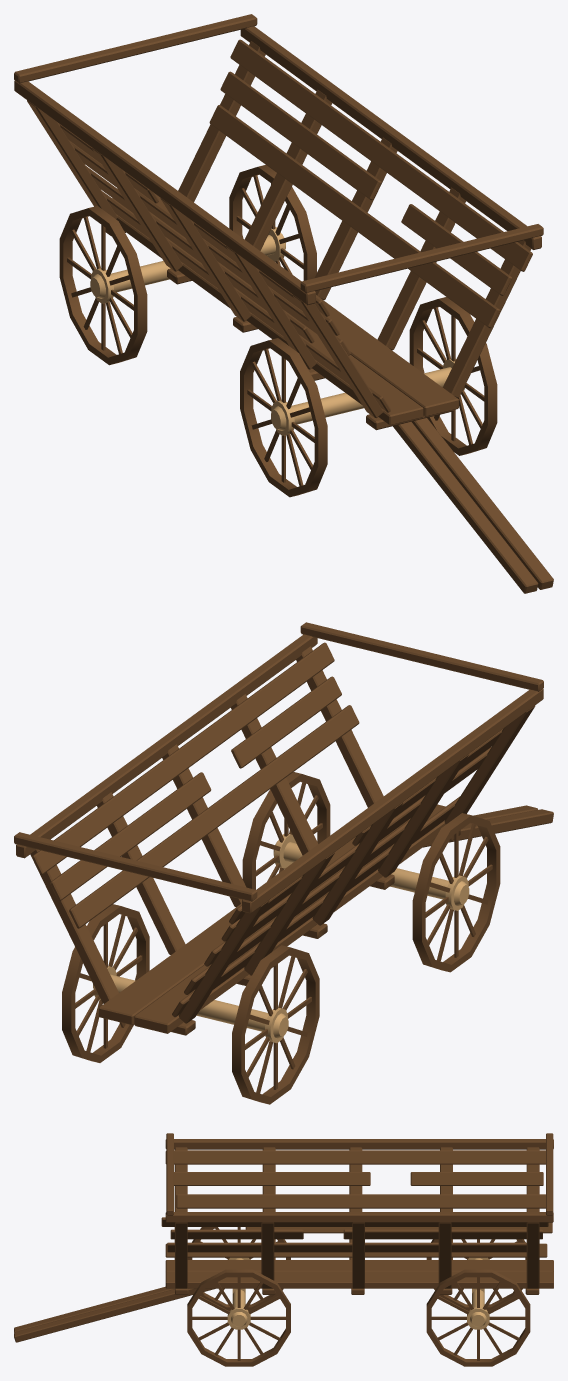
Rendered from car_08.gltf.
3 renders of one model, top to bottom at view 1: azimuth 30°, elevation 25°; view 2: azimuth 150°, elevation 25°; view 3: azimuth 270°, elevation 25°, orthographic. The views are drawn at different scales.
Parts seen in each view (by area): view 1: body, wheel_14, wheel_6, wheel_15, wheel_7, wheel_9, wheel_11, wheel_12, wheel_4, wheel_3, wheel_1, wheel_8; view 2: body, wheel_14, wheel_6, wheel_7, wheel_15, wheel_1, wheel_3, wheel_4, wheel_12, wheel_11, wheel_9, wheel_0; view 3: body, wheel_2, wheel_10, wheel_3, wheel_11, wheel_8, wheel_0, wheel_5.
Boxes of the visible parts, x1,y1,x2,y2 form: body: (14, 14, 553, 593); wheel_14: (59, 208, 137, 365); wheel_6: (240, 340, 318, 497); wheel_15: (88, 206, 147, 364); wheel_7: (269, 338, 327, 496); wheel_9: (409, 299, 487, 455); wheel_11: (439, 297, 497, 455); wheel_12: (63, 216, 116, 357); wheel_4: (244, 348, 296, 489); wheel_3: (258, 165, 316, 279); wheel_1: (229, 167, 307, 280); wheel_8: (413, 306, 466, 448); body: (14, 622, 553, 1093); wheel_14: (241, 947, 319, 1104); wheel_6: (422, 815, 500, 972); wheel_7: (412, 813, 471, 971); wheel_15: (232, 945, 290, 1103); wheel_1: (71, 906, 149, 1062); wheel_3: (62, 904, 120, 1062); wheel_4: (443, 823, 496, 964); wheel_12: (262, 955, 315, 1096); wheel_11: (242, 772, 301, 888); wheel_9: (252, 774, 330, 889); wheel_0: (93, 913, 145, 1055); body: (14, 1133, 553, 1360); wheel_2: (426, 1272, 530, 1366); wheel_10: (187, 1272, 290, 1366); wheel_3: (426, 1269, 530, 1306); wheel_11: (187, 1269, 290, 1306); wheel_8: (192, 1328, 285, 1362); wheel_0: (431, 1328, 525, 1362); wheel_5: (187, 1227, 290, 1311).
Size of the model in its own units: 1.5 by 1.51 by 4.44.
1 material, 1 textured.
